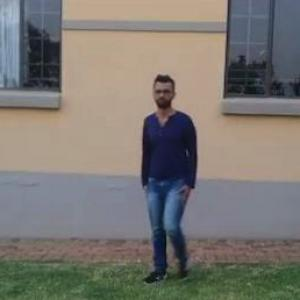follow: (139, 74, 199, 277)
